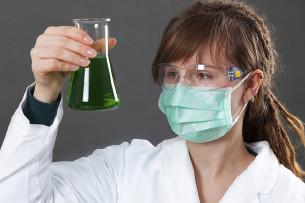OK: (156, 52, 245, 141)
